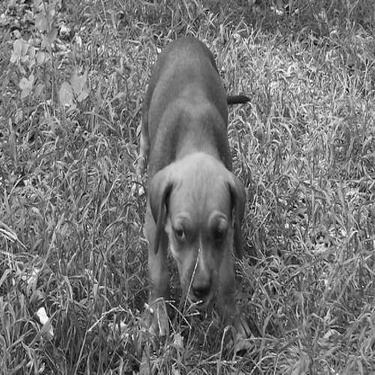dog: (129, 32, 265, 354)
